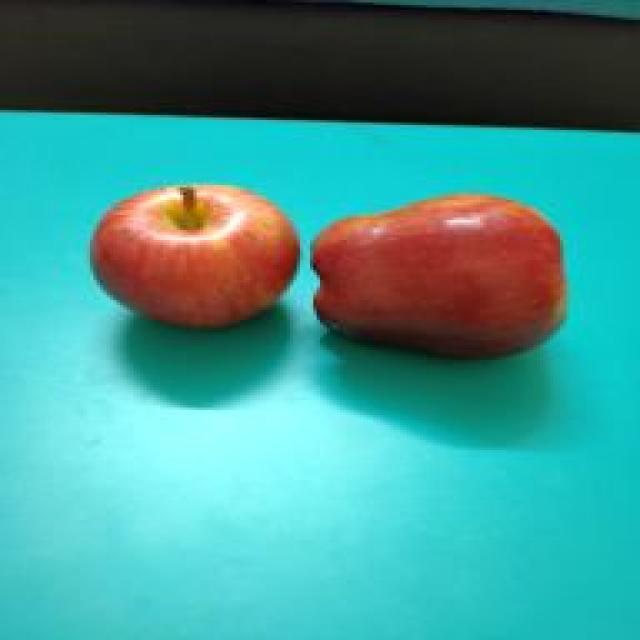Good_Apple: (310, 195, 570, 365), (87, 185, 300, 332)
